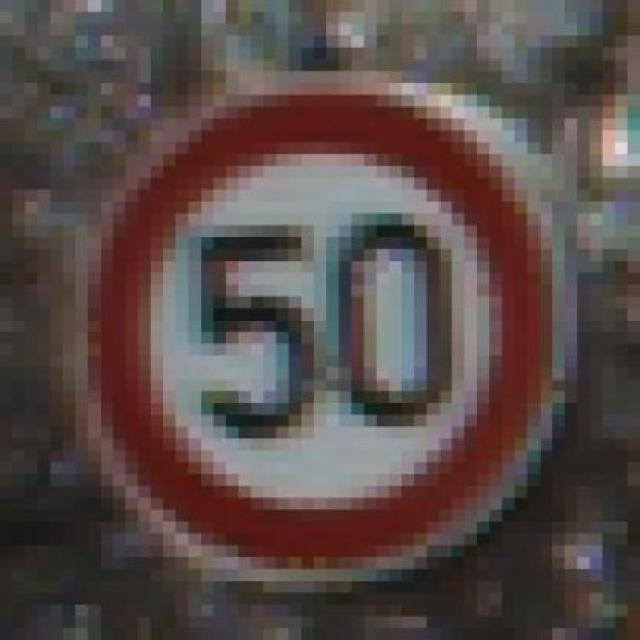50 mph speed limit: (62, 70, 615, 604)
